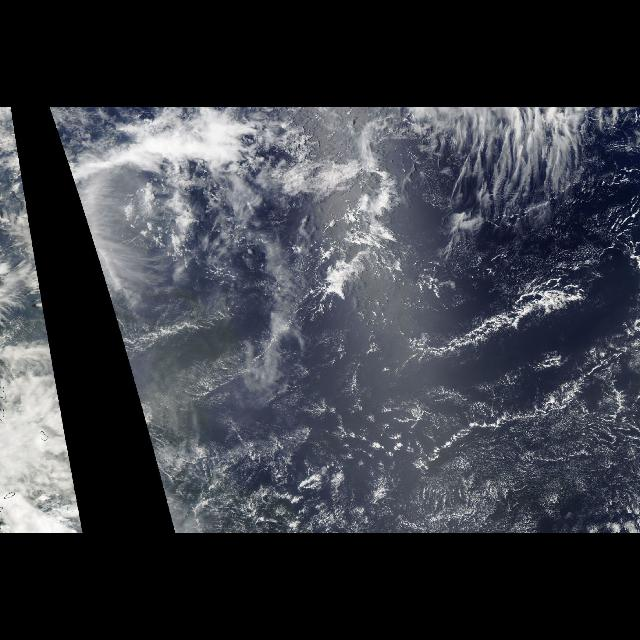Fish: (251, 266, 613, 362), (98, 259, 250, 349), (171, 353, 333, 417), (5, 259, 50, 349)
Gravel: (344, 372, 634, 530)
Sugar: (390, 366, 640, 534)
